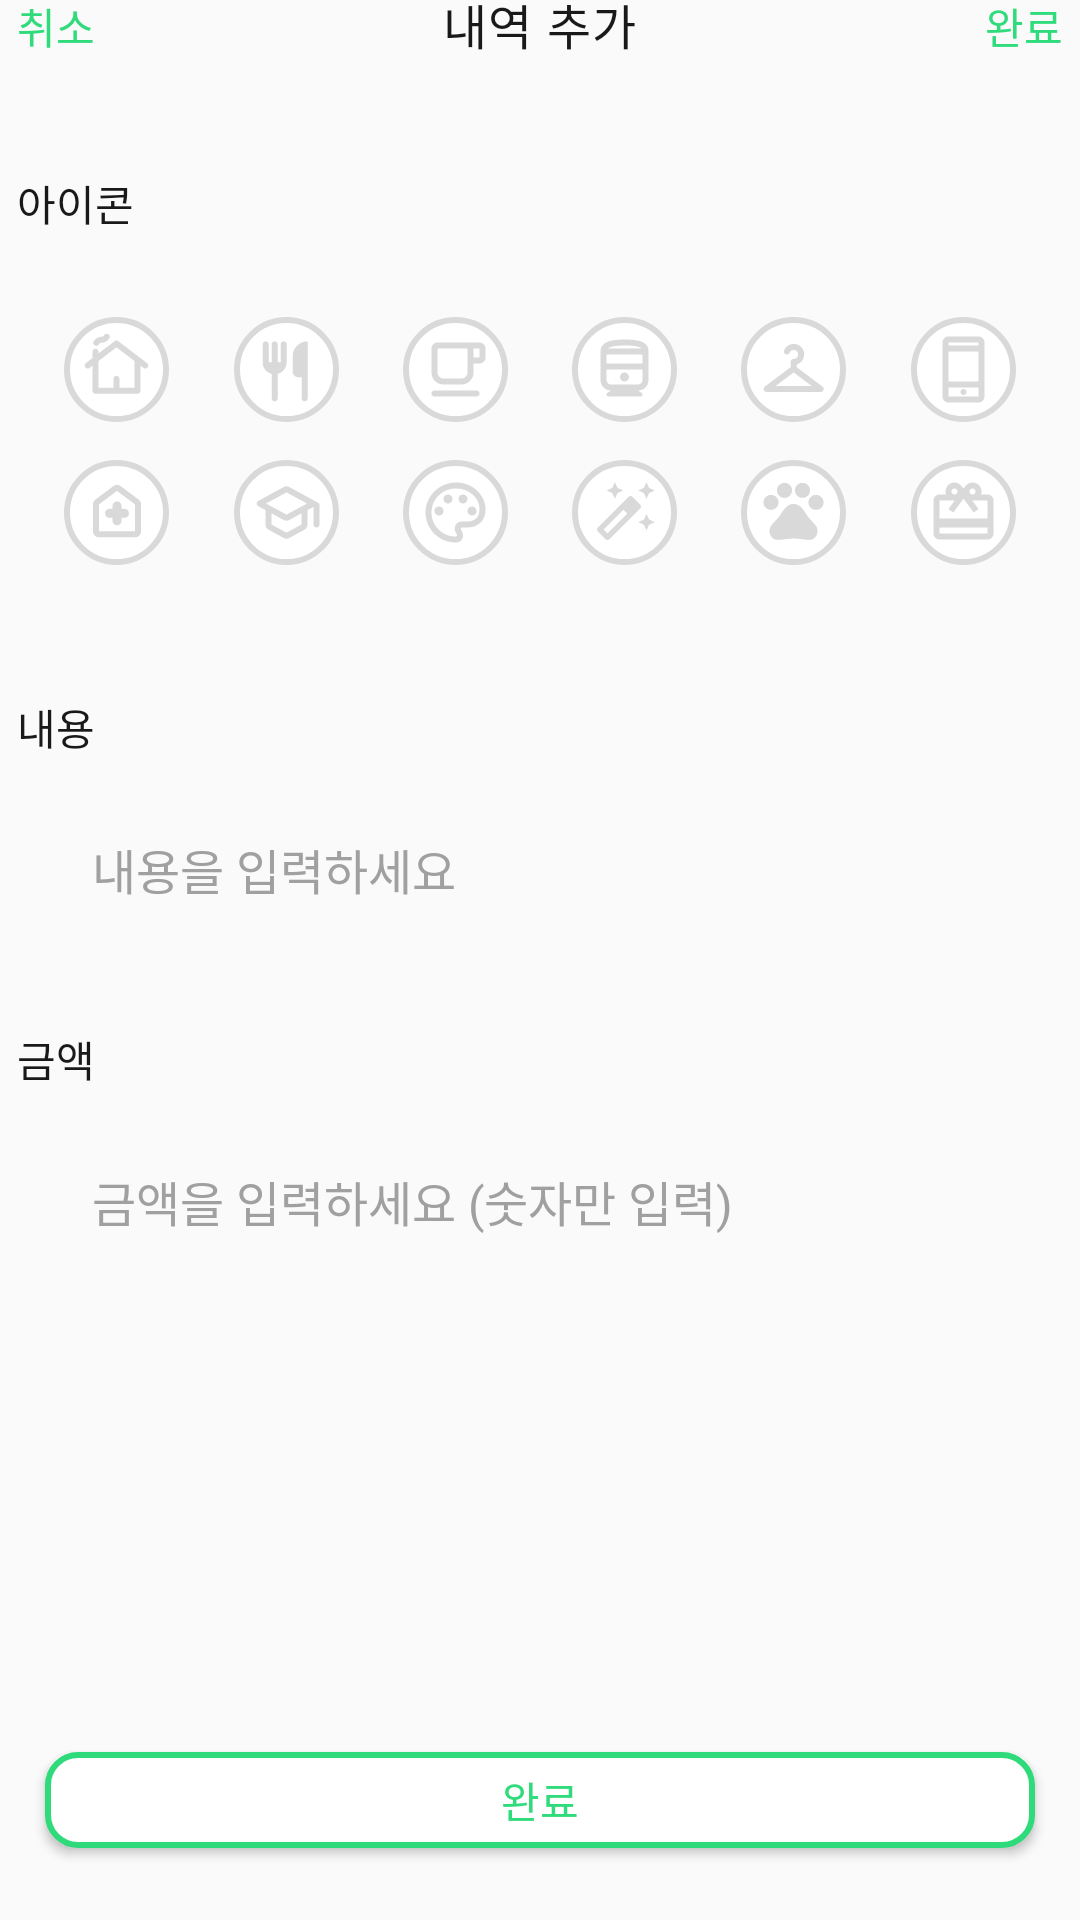

Named icons in this screenshot (1080*1920) and their centers, (x=x, y=y):
beauty: (x=624, y=512)
cafe: (x=455, y=369)
communication: (x=963, y=369)
culture: (x=455, y=512)
fashion: (x=793, y=369)
food: (x=286, y=369)
gift: (x=963, y=512)
health: (x=116, y=512)
learn: (x=286, y=512)
living: (x=116, y=369)
pet: (x=793, y=512)
transportation: (x=624, y=369)
